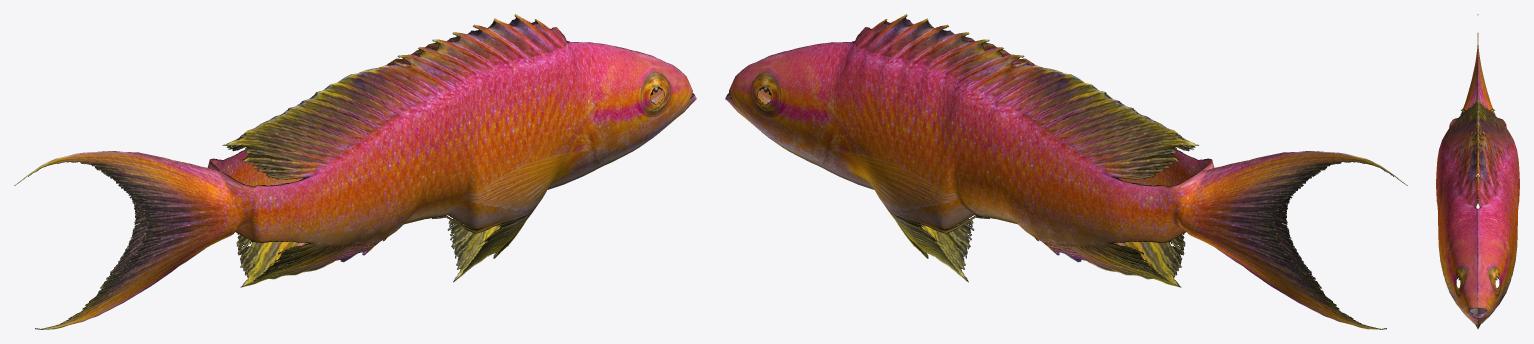
File: anthias.glb
3 views of the same model, side by side, from view 1: azimuth 30°, elevation 25°; view 2: azimuth 150°, elevation 25°; view 3: azimuth 270°, elevation 25° (orthographic). The views are drawn at different scales.
Parts seen in each view (by area): view 1: Pseudanthias squamipinnis; view 2: Pseudanthias squamipinnis; view 3: Pseudanthias squamipinnis.
Boxes of the visible parts, x1,y1,x2,y2 form: Pseudanthias squamipinnis: (14, 14, 696, 329); Pseudanthias squamipinnis: (725, 14, 1407, 329); Pseudanthias squamipinnis: (1436, 14, 1519, 328).
Size of the model in its own units: 0.18 by 0.0644 by 0.0259.
Materials: 1 (1 with a texture image).
